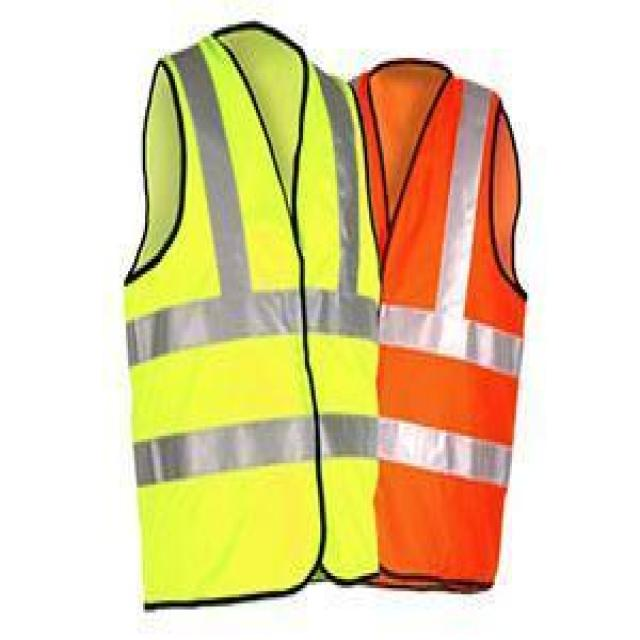Vest: (115, 21, 382, 606), (350, 55, 531, 591)
